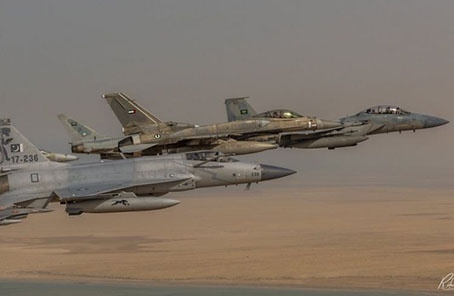airplane: (1, 117, 314, 220), (53, 90, 389, 148), (204, 85, 452, 144)
